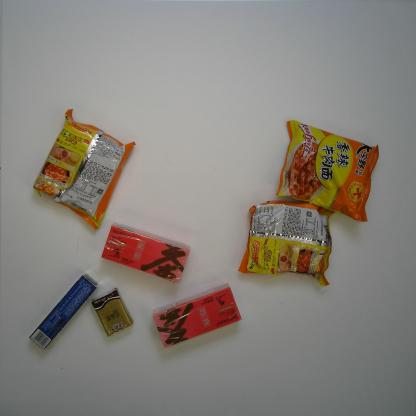Instant Drink: (152, 282, 242, 349), (100, 221, 190, 284)
Instant Noodles: (32, 107, 137, 232), (275, 119, 380, 223), (236, 199, 336, 288)
Personal Hygiene: (27, 271, 100, 352)
Tissue: (91, 286, 135, 338)
